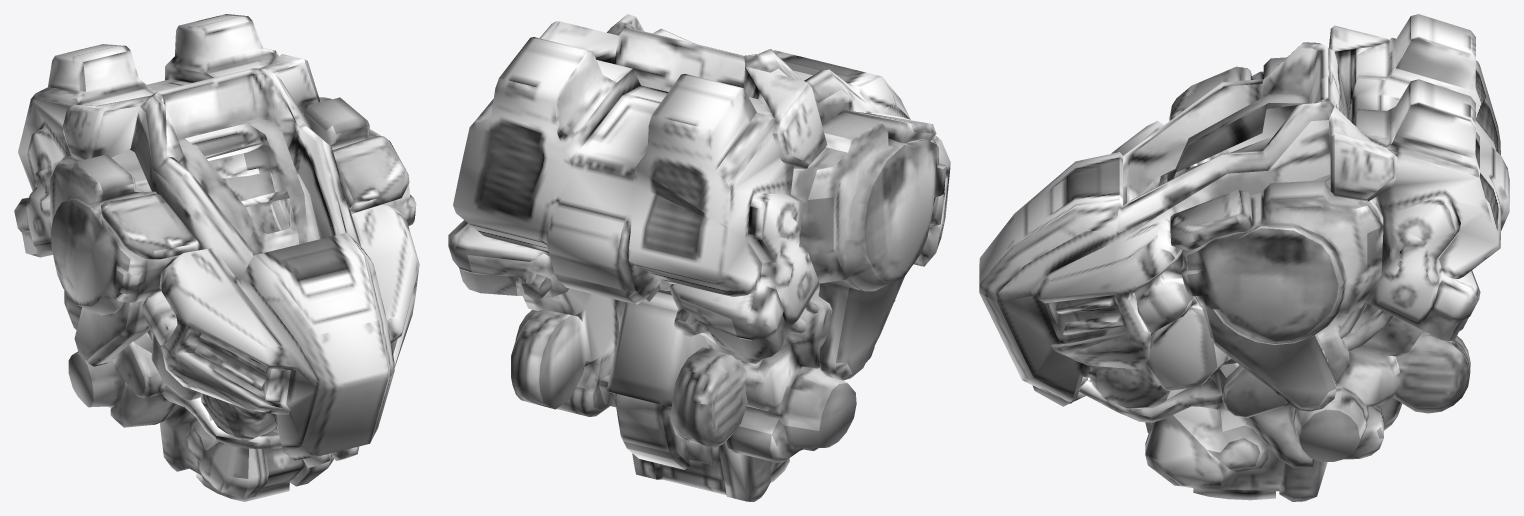
The model's file is c_nat.glb.
3 renders of one model, left to right at view 1: azimuth 30°, elevation 25°; view 2: azimuth 150°, elevation 25°; view 3: azimuth 270°, elevation 25°, orthographic. The views are drawn at different scales.
Parts seen in each view (by area): view 1: c_nat; view 2: c_nat; view 3: c_nat.
Boxes of the visible parts, x1=… form: c_nat: x1=14, y1=14, x2=419, y2=501; c_nat: x1=448, y1=14, x2=950, y2=501; c_nat: x1=979, y1=14, x2=1509, y2=501.
Size of the model in its own units: 1 by 1.2 by 1.37.
Materials: 3 (3 with a texture image).
